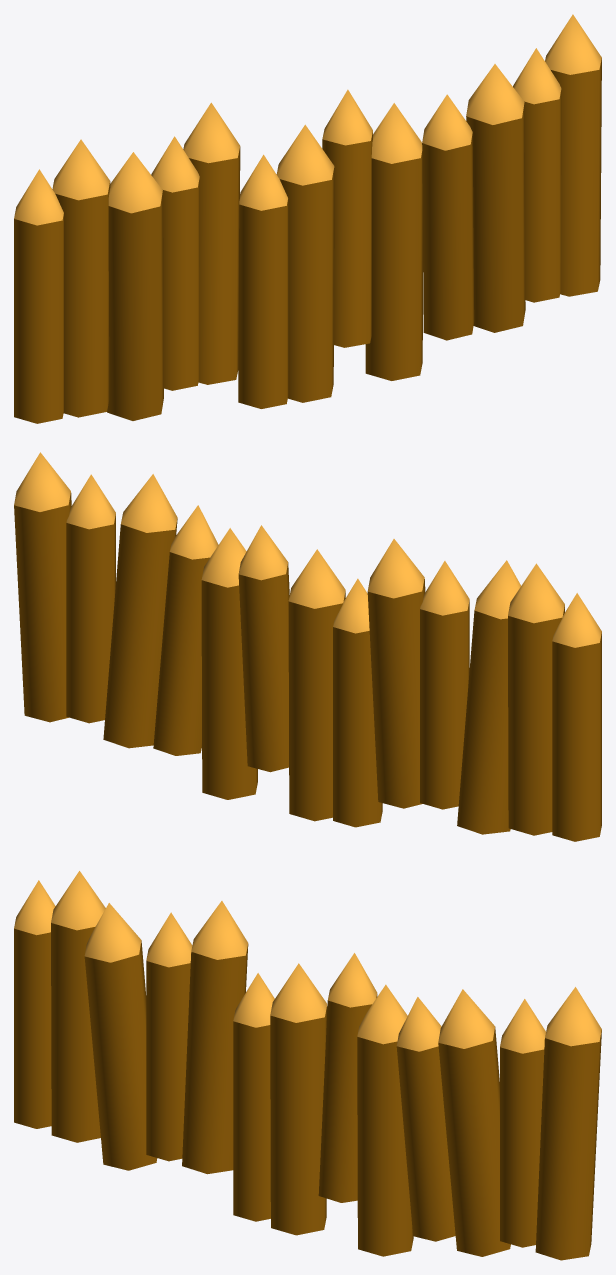
The model's file is fence3.fbx.
The picture shows the model from 3 angles, top to bottom: view 1: azimuth 30°, elevation 25°; view 2: azimuth 150°, elevation 25°; view 3: azimuth 330°, elevation 25°; orthographic projection. The views are drawn at different scales.
Visible parts, largest first — view 1: fence3; view 2: fence3; view 3: fence3.
Part boxes in pixels (box(x1,y1,x2,y2)): fence3: box(14, 14, 601, 423); fence3: box(14, 452, 601, 841); fence3: box(14, 871, 601, 1260).
Size of the model in its own units: 216 by 106 by 28.45.
